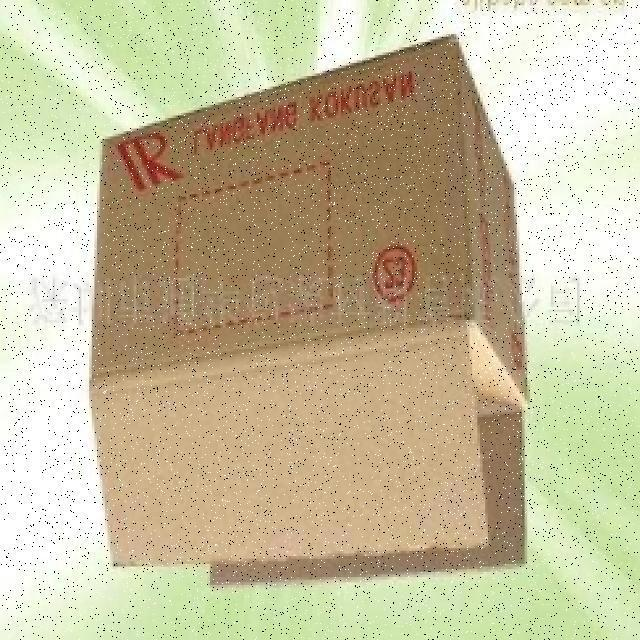box: (85, 14, 556, 572)
